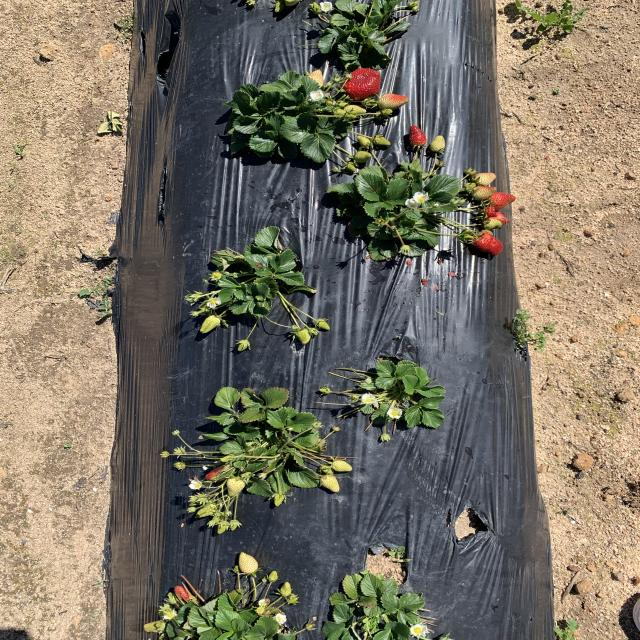unripe: (344, 66, 382, 101), (470, 230, 506, 257), (408, 125, 428, 148), (491, 193, 516, 208)
